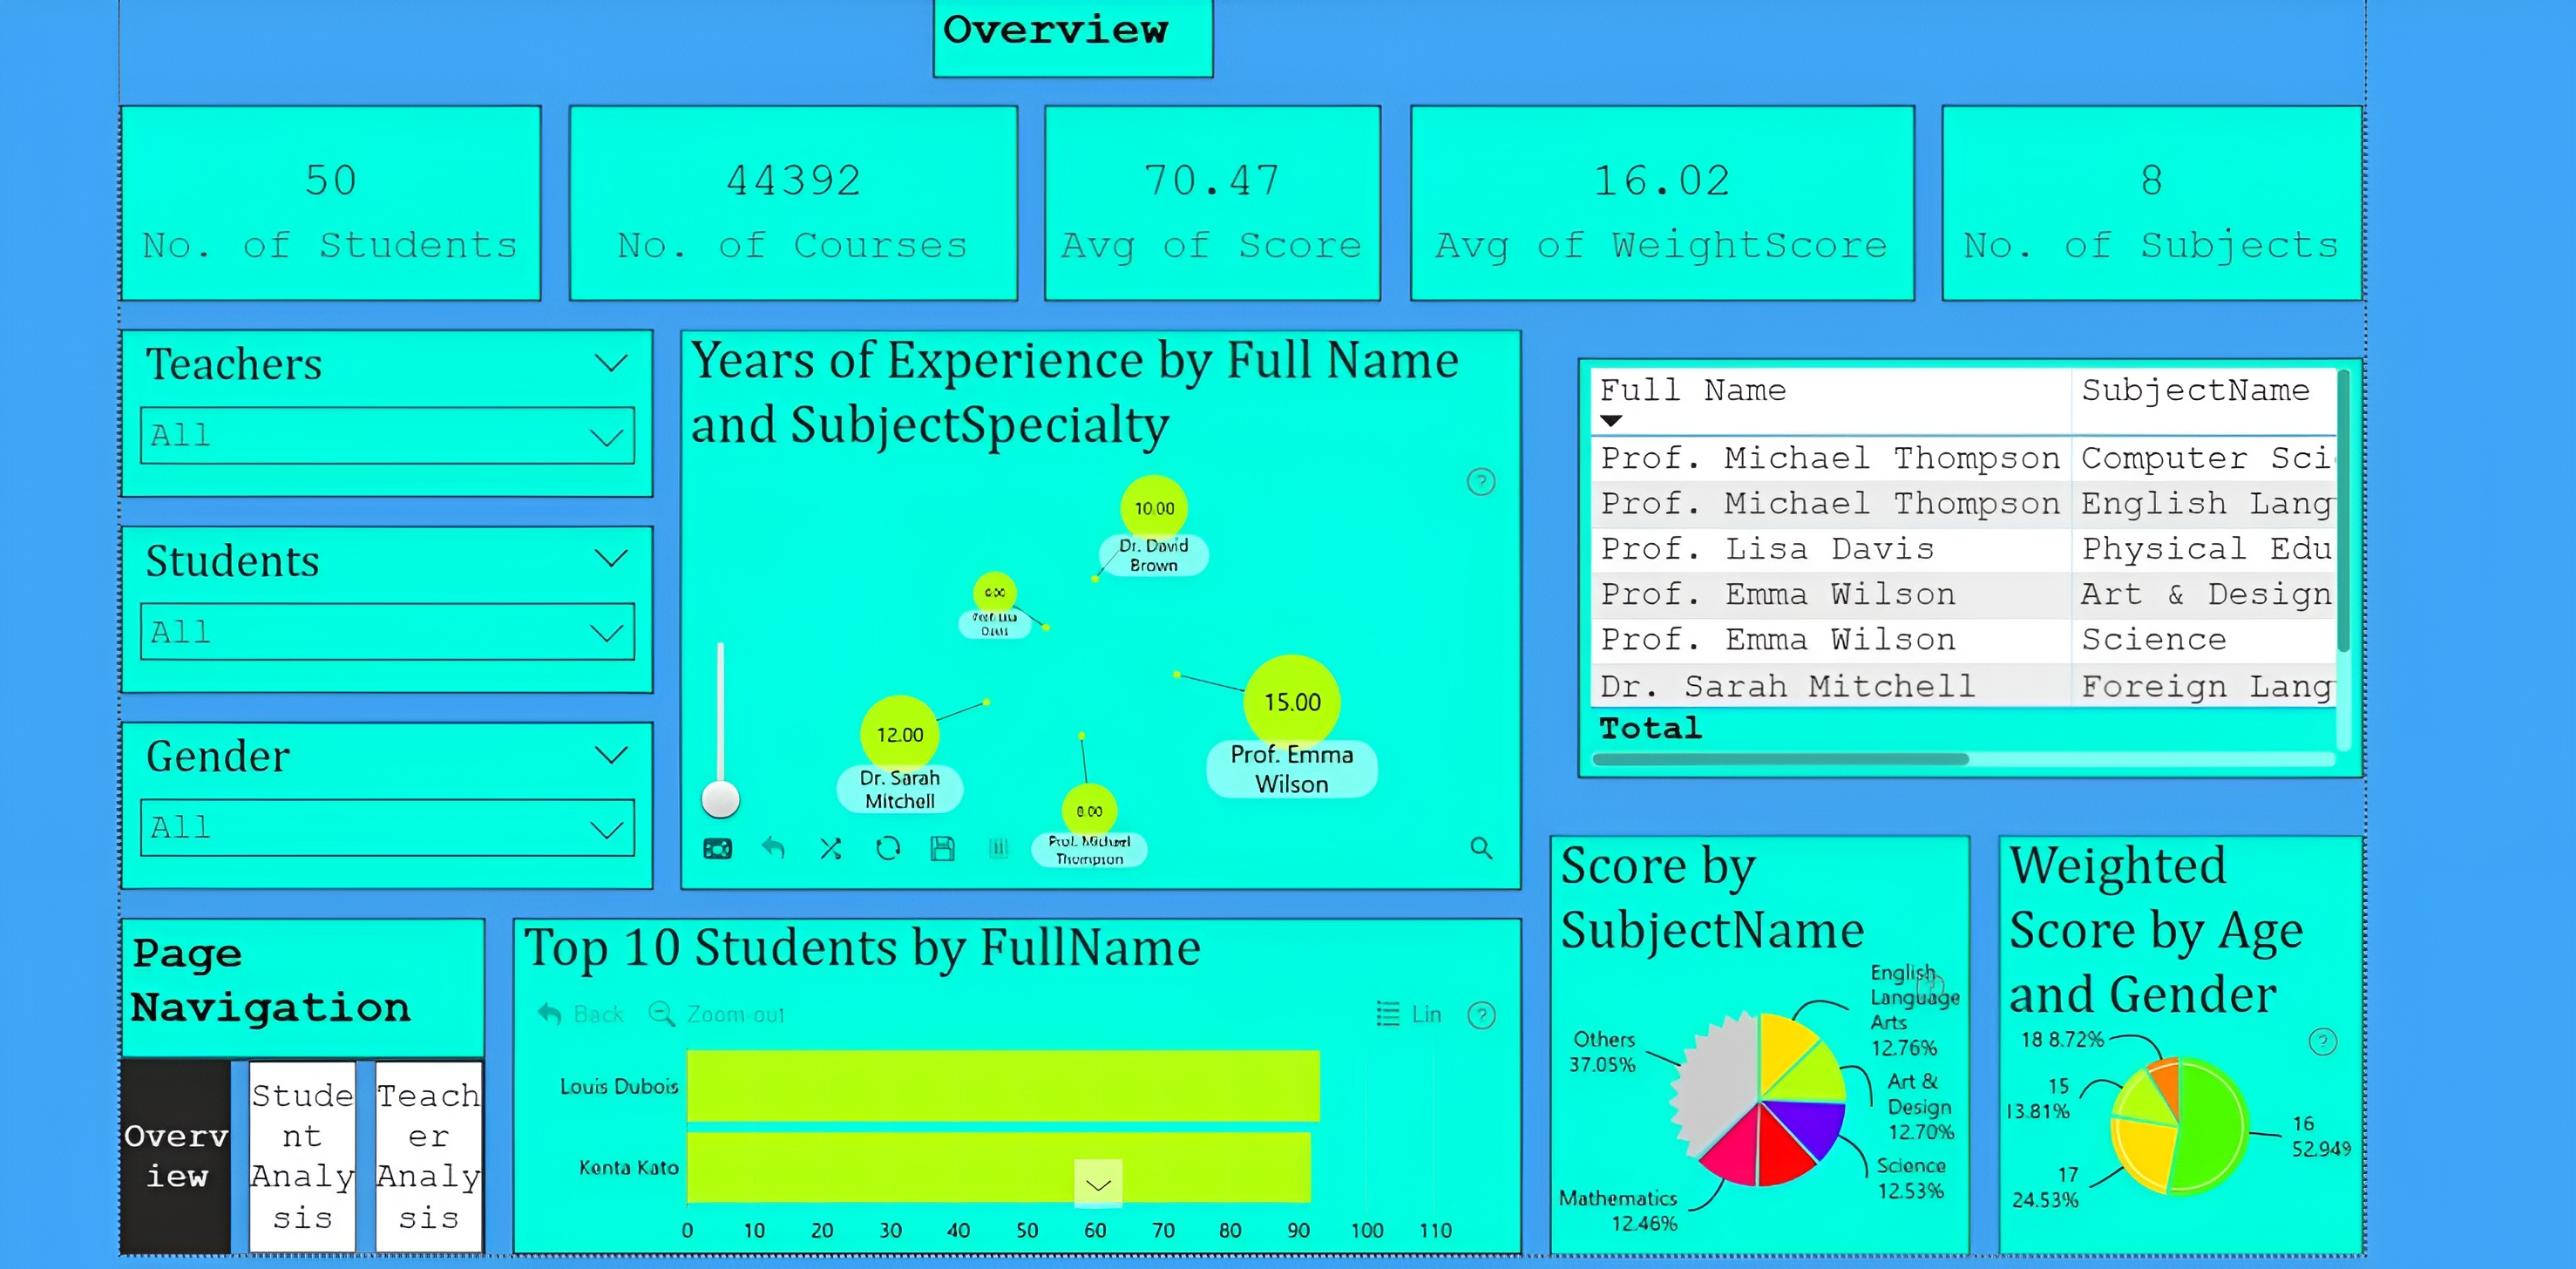

This screenshot's page, from the dashboard's own definition file:
{"tool":"powerbi","page":{"name":"Overview","canvas":[1280,720],"ordinal":0},"visuals":[{"type":"card","fields":{"Values":["Count(Sheet1.StudentID)"]},"box":[0,64,240,112],"z":0},{"type":"card","fields":{"Values":["Avg(Sheet1 (4).Score)"]},"box":[528,64,192,112],"z":1},{"type":"card","fields":{"Values":["Count(DimSubjects.SubjectName)"]},"box":[1040,64,240,112],"z":2},{"type":"card","fields":{"Values":["Avg(Sheet1 (4).WeightedScore)"]},"box":[736,64,288,112],"z":4},{"type":"card","fields":{"Values":["CountNonNull(Sheet1 (4).PassedCourse)"]},"box":[256,64,256,112],"z":5},{"type":"ZoomChartsDrillDownComboBarProE77E4ED357DC402ABA005987437CF8","fields":{"Category":["Sheet1.FullName"],"Values1":["Avg(Sheet1 (4).Score)"]},"box":[224,528,576,192],"z":6},{"type":"tableEx","fields":{"Values":["Sheet1 (3).Full Name","DimSubjects.SubjectName","Avg(Sheet1 (4).WeightedScore)"]},"box":[832,208,448,240],"z":7},{"type":"ZoomChartsDrillDownPieProC062D62DA5CE45ECB95B7B1D0E5DA558","fields":{"Values":["Sum(Sheet1 (4).WeightedScore)"],"Category":["Sheet1.Age","Sheet1.Gender"]},"box":[1072,480,208,240],"z":8},{"type":"ZoomChartsDrillDownPieProC062D62DA5CE45ECB95B7B1D0E5DA558","fields":{"Category":["DimSubjects.SubjectName"],"Values":["Sum(Sheet1 (4).Score)"]},"box":[816,480,240,240],"z":9},{"type":"ZoomChartsDrillDownGraphProA2C55E4B59078FDD51C4CD1C4D4E6623V","fields":{"toNodes":["Sheet1 (3).SubjectSpecialty"],"fromNodes":["Sheet1 (3).Full Name"],"Size":["Avg(Sheet1 (3).YearsExperience)"]},"box":[320,192,480,320],"z":10},{"type":"textbox","box":[464,0,160,48],"z":11},{"type":"textbox","box":[0,528,208,80],"z":12},{"type":"pageNavigator","box":[0,608,208,112],"z":13},{"type":"slicer","fields":{"Values":["Sheet1 (3).Full Name"]},"box":[0,192,304,96],"z":14},{"type":"slicer","fields":{"Values":["Sheet1.FullName"]},"box":[0,304,304,96],"z":15},{"type":"slicer","fields":{"Values":["Sheet1.Gender"]},"box":[0,416,304,96],"z":16}]}

Visuals, with their boxes in screenshot pixels (x1, y1, x2, y2):
card - Count(Sheet1.StudentID): <box>121,105,538,299</box>
card - Avg(Sheet1 (4).Score): <box>1038,105,1371,299</box>
card - Count(DimSubjects.SubjectName): <box>1927,105,2343,299</box>
card - Avg(Sheet1 (4).WeightedScore): <box>1399,105,1899,299</box>
card - CountNonNull(Sheet1 (4).PassedCourse): <box>566,105,1010,299</box>
ZoomChartsDrillDownComboBarProE77E4ED357DC402ABA005987437CF8 - Sheet1.FullName x Avg(Sheet1 (4).Score): <box>510,910,1510,1244</box>
tableEx - Sheet1 (3).Full Name x DimSubjects.SubjectName: <box>1566,355,2343,771</box>
ZoomChartsDrillDownPieProC062D62DA5CE45ECB95B7B1D0E5DA558 - Sum(Sheet1 (4).WeightedScore) x Sheet1.Age: <box>1983,827,2343,1244</box>
ZoomChartsDrillDownPieProC062D62DA5CE45ECB95B7B1D0E5DA558 - DimSubjects.SubjectName x Sum(Sheet1 (4).Score): <box>1538,827,1955,1244</box>
ZoomChartsDrillDownGraphProA2C55E4B59078FDD51C4CD1C4D4E6623V - Sheet1 (3).SubjectSpecialty x Sheet1 (3).Full Name: <box>676,327,1510,883</box>
textbox: <box>926,0,1204,77</box>
textbox: <box>121,910,482,1049</box>
pageNavigator: <box>121,1049,482,1244</box>
slicer - Sheet1 (3).Full Name: <box>121,327,648,493</box>
slicer - Sheet1.FullName: <box>121,521,648,688</box>
slicer - Sheet1.Gender: <box>121,716,648,883</box>
